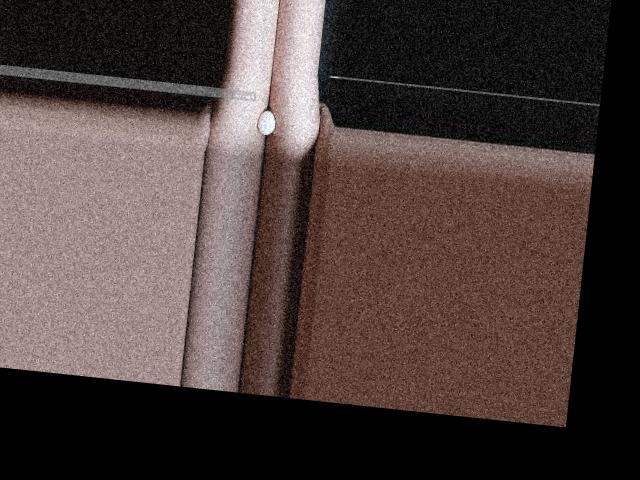egg: (256, 109, 276, 135)
